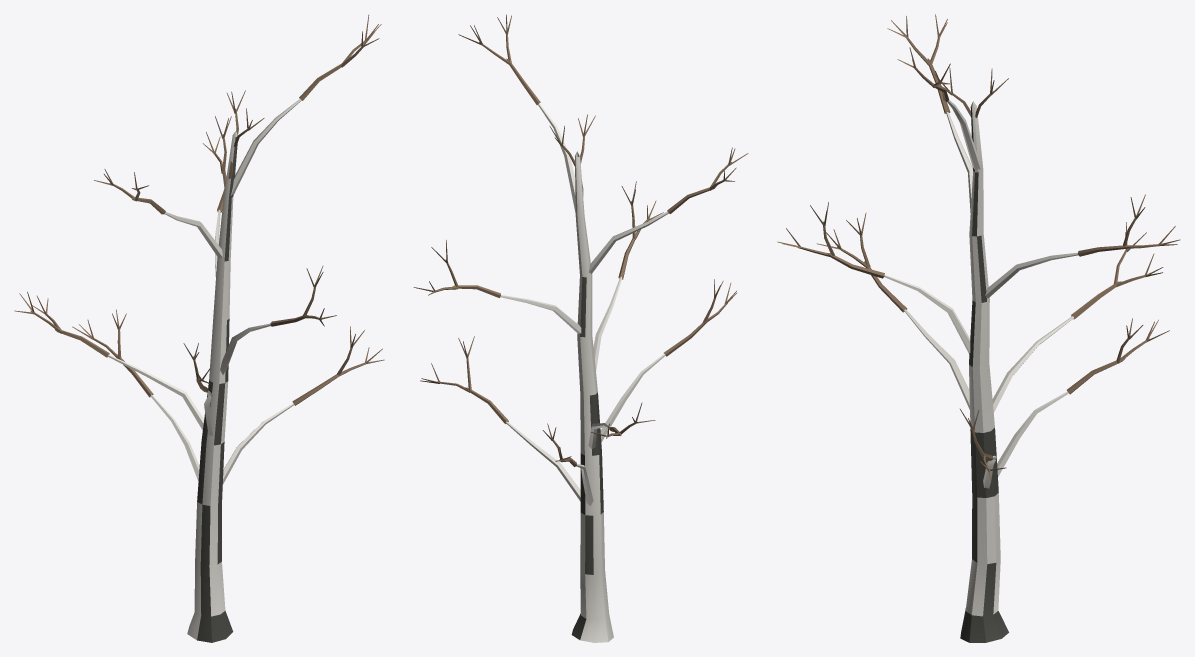
The model's file is tree_birch_bare.glb.
3 views of the same model, side by side, from view 1: azimuth 30°, elevation 25°; view 2: azimuth 150°, elevation 25°; view 3: azimuth 270°, elevation 25° (orthographic). The views are drawn at different scales.
Parts seen in each view (by area): view 1: Body; view 2: Body; view 3: Body.
Part boxes in pixels (x1,y1,x2,y2): Body: [14, 14, 384, 642]; Body: [413, 14, 748, 642]; Body: [777, 14, 1180, 642].
Bounding box in the file's own units: 3.76 × 6.91 × 3.87.
